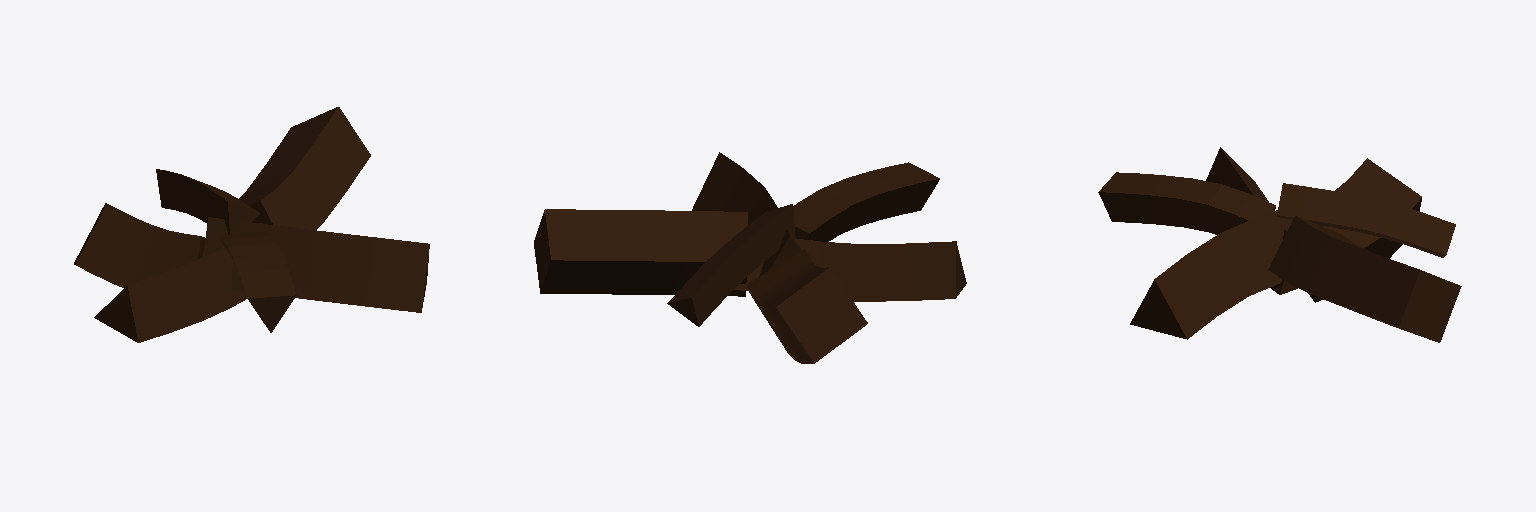
File: bonfire1.obj
3 renders of one model, left to right at view 1: azimuth 30°, elevation 25°; view 2: azimuth 150°, elevation 25°; view 3: azimuth 270°, elevation 25°, orthographic.
Parts seen in each view (by area): view 1: Wick4, Wick6, Wick2, Wick3, Wick1, Wick5; view 2: Wick6, Wick2, Wick3, Wick1, Wick5, Wick4; view 3: Wick6, Wick4, Wick1, Wick5, Wick3, Wick2.
Part boxes in pixels (x1,y1,x2,y2): Wick4: (203, 217, 429, 312); Wick6: (239, 107, 370, 229); Wick2: (94, 223, 262, 342); Wick3: (74, 203, 204, 287); Wick1: (218, 233, 296, 332); Wick5: (156, 169, 259, 234); Wick6: (534, 209, 747, 296); Wick2: (734, 239, 966, 301); Wick3: (746, 249, 867, 363); Wick1: (793, 162, 939, 241); Wick5: (667, 204, 794, 326); Wick4: (692, 152, 801, 276); Wick6: (1268, 215, 1461, 342); Wick4: (1130, 210, 1292, 339); Wick1: (1098, 172, 1275, 234); Wick5: (1277, 183, 1455, 257); Wick3: (1308, 158, 1421, 302); Wick2: (1206, 147, 1297, 294).
Size of the model in its own units: 0.7006 by 0.2332 by 0.6306.